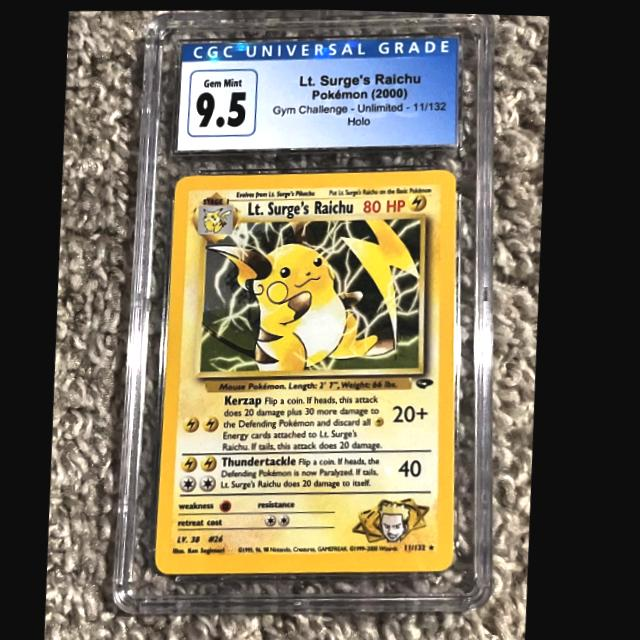card: (162, 167, 462, 572)
cgc_label_old: (178, 33, 459, 151)
cgc_slab: (122, 7, 502, 613)
